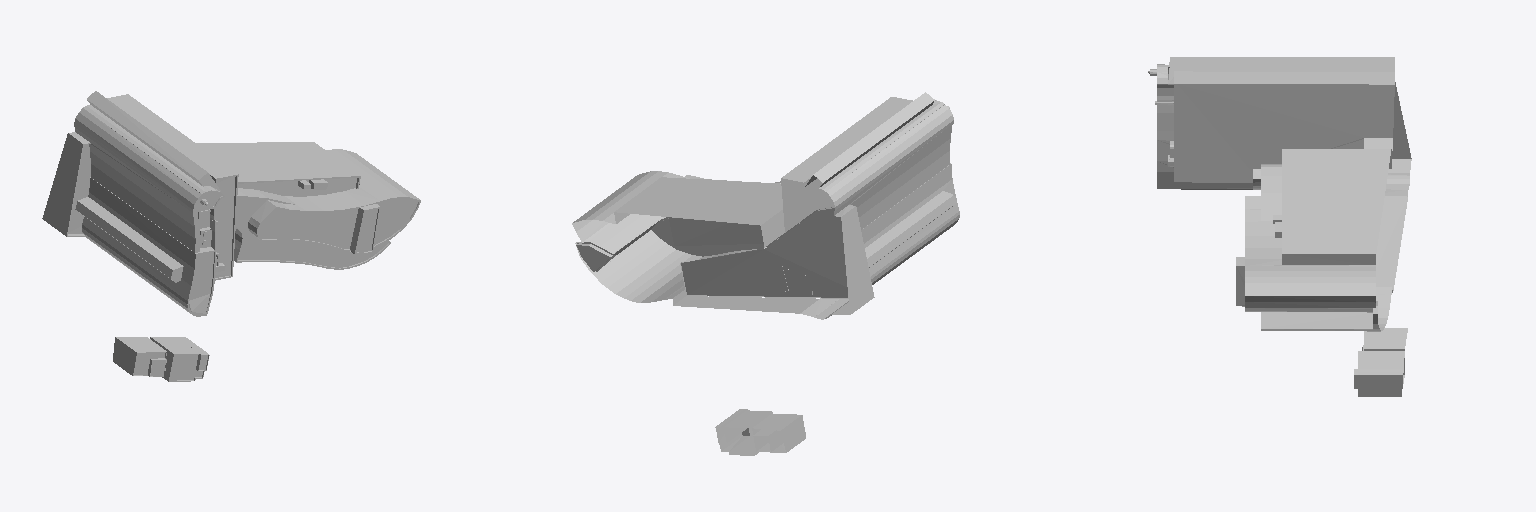
3 views of the same model, side by side, from view 1: azimuth 30°, elevation 25°; view 2: azimuth 150°, elevation 25°; view 3: azimuth 270°, elevation 25° (orthographic).
Visible parts, largest first — view 1: [number redacted], [number redacted], [number redacted]; view 2: [number redacted], [number redacted], [number redacted]; view 3: [number redacted], [number redacted], [number redacted].
Part boxes in pixels (left/top/right/bottom): [number redacted]: left=42, top=91, right=420, bottom=316; [number redacted]: left=113, top=337, right=166, bottom=376; [number redacted]: left=150, top=337, right=209, bottom=381; [number redacted]: left=572, top=92, right=959, bottom=319; [number redacted]: left=752, top=413, right=805, bottom=452; [number redacted]: left=715, top=409, right=772, bottom=455; [number redacted]: left=1148, top=57, right=1411, bottom=331; [number redacted]: left=1354, top=351, right=1404, bottom=396; [number redacted]: left=1362, top=328, right=1407, bottom=350.
Bounding box in the file's own units: 101 × 97.25 × 78.